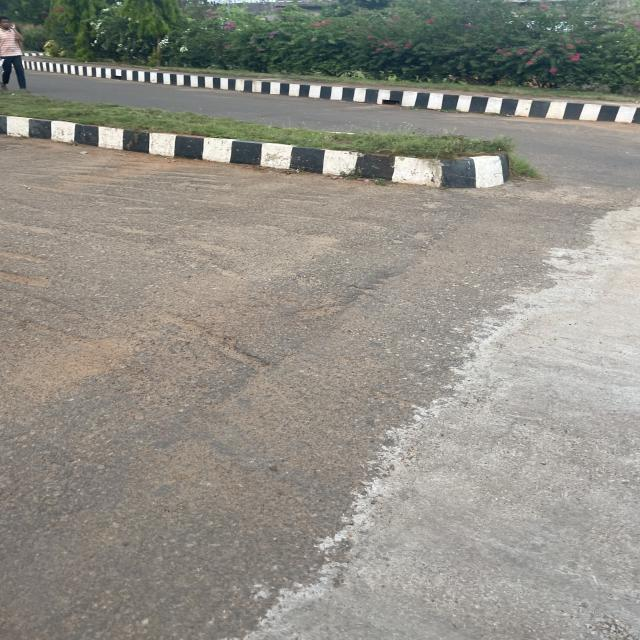D11: (312, 225, 562, 640)
D40: (142, 284, 278, 404)
